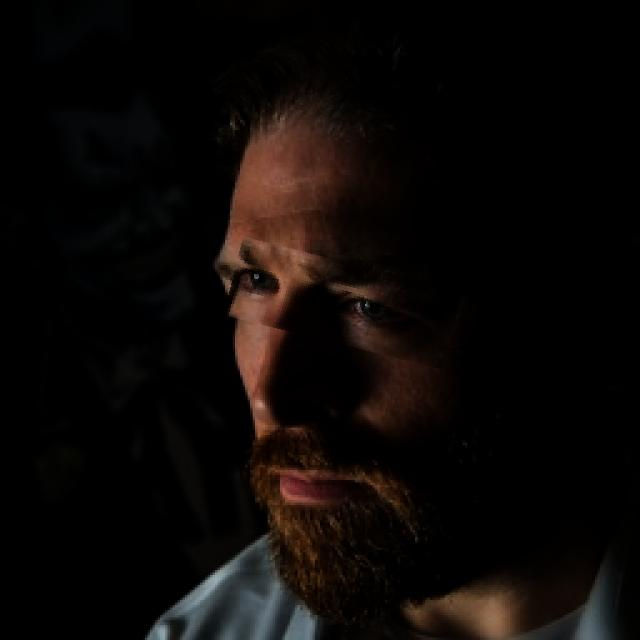no-glasses: (227, 249, 459, 356)
